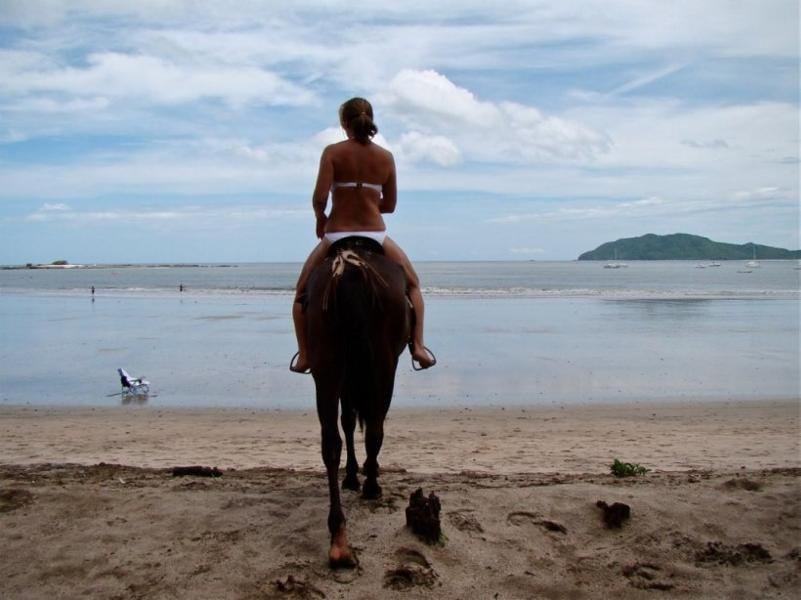person: (289, 95, 439, 375)
